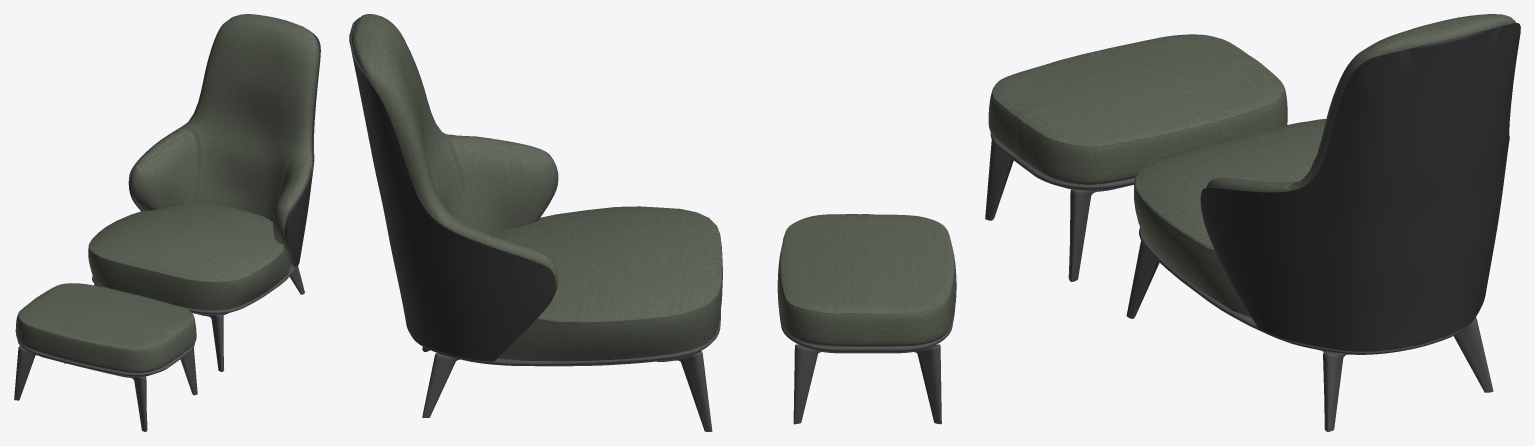
The picture shows the model from 3 angles, left to right: view 1: azimuth 30°, elevation 25°; view 2: azimuth 150°, elevation 25°; view 3: azimuth 270°, elevation 25°; orthographic projection. The views are drawn at different scales.
Parts seen in each view (by area): view 1: Armchair; view 2: Armchair; view 3: Armchair.
Boxes of the visible parts, left/top/right/bottom form: Armchair: left=14, top=14, right=320, bottom=431; Armchair: left=349, top=14, right=956, bottom=431; Armchair: left=985, top=14, right=1520, bottom=431.
Bounding box in the file's own units: 1.55 × 1.03 × 1.22.
3 materials, 1 textured.
